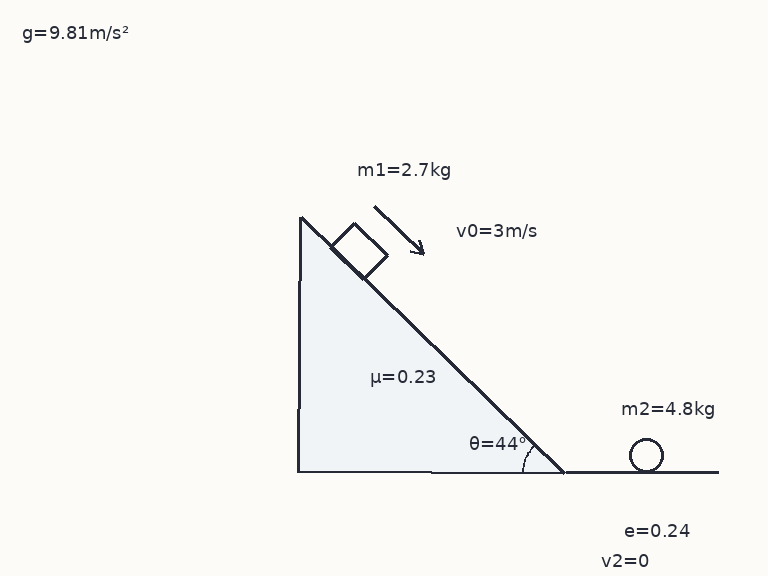ball: (627, 436, 665, 474)
block: (328, 221, 389, 281)
ramp: (298, 216, 565, 474)
